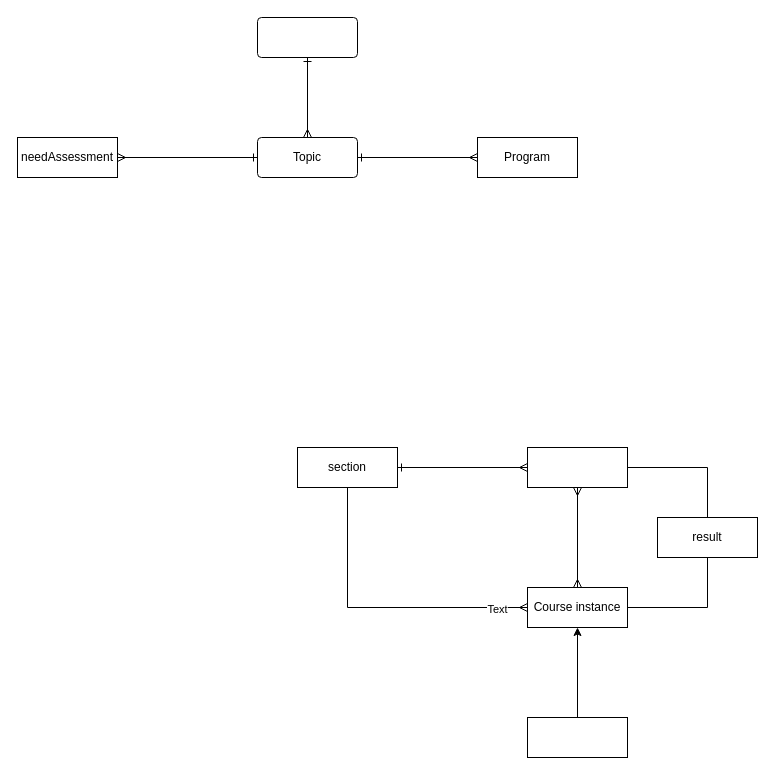
Image size: 775x775. Some labels were removed from this diagram. The shapes that lost their labels are listed below. From the top down, each one's centre as x and y in pixels, then its label:
[307,37]: category
[577,467]: student
[577,737]: course
